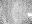person: (25, 13, 31, 17)
